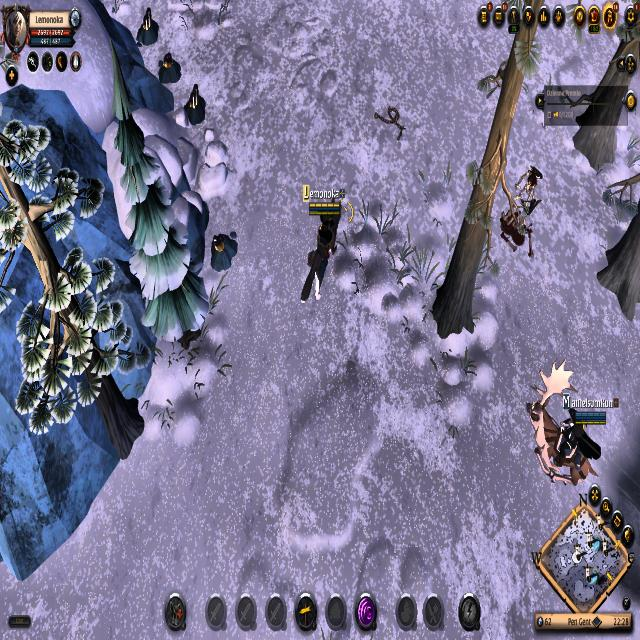ore tier 2: (210, 229, 239, 274), (184, 84, 207, 126), (156, 51, 183, 86), (138, 7, 160, 49)
